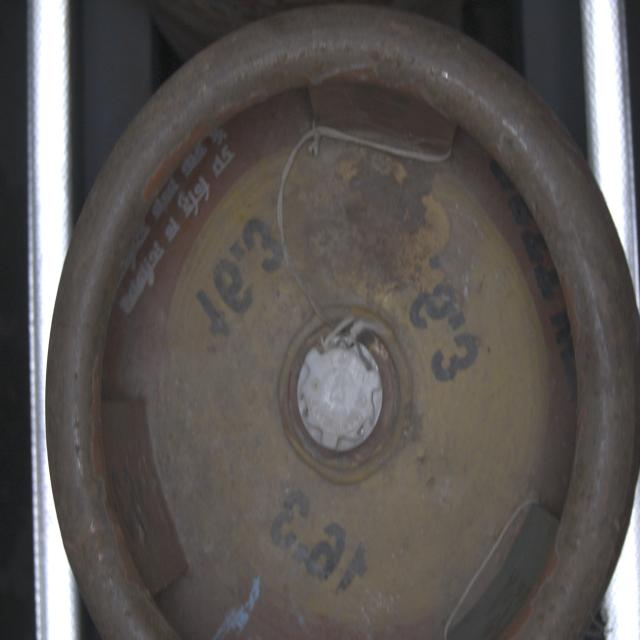Cap: (295, 333, 384, 460)
